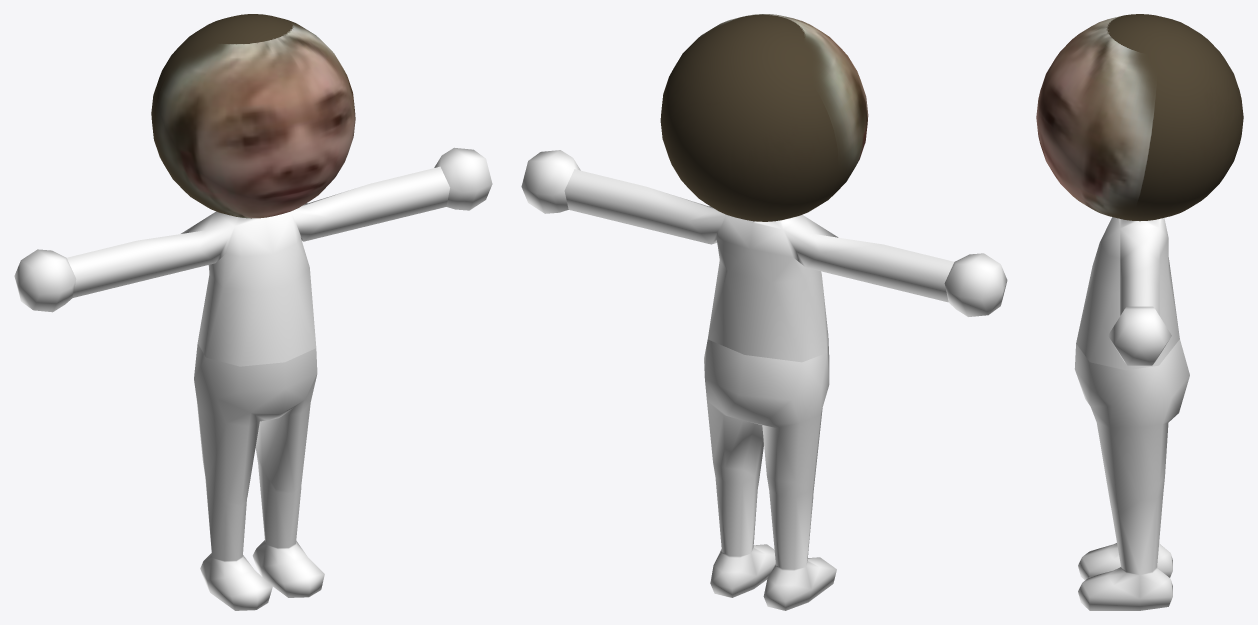
The model's file is mii_skeletonless.fbx.
3 views of the same model, side by side, from view 1: azimuth 30°, elevation 25°; view 2: azimuth 150°, elevation 25°; view 3: azimuth 270°, elevation 25° (orthographic).
Visible parts, largest first — view 1: mesh_0_; view 2: mesh_0_; view 3: mesh_0_.
Part boxes in pixels (x1,y1,x2,y2): mesh_0_: [14, 14, 492, 610]; mesh_0_: [521, 14, 1007, 610]; mesh_0_: [1036, 14, 1243, 610].
Size of the model in its own units: 241 by 274 by 90.87.
